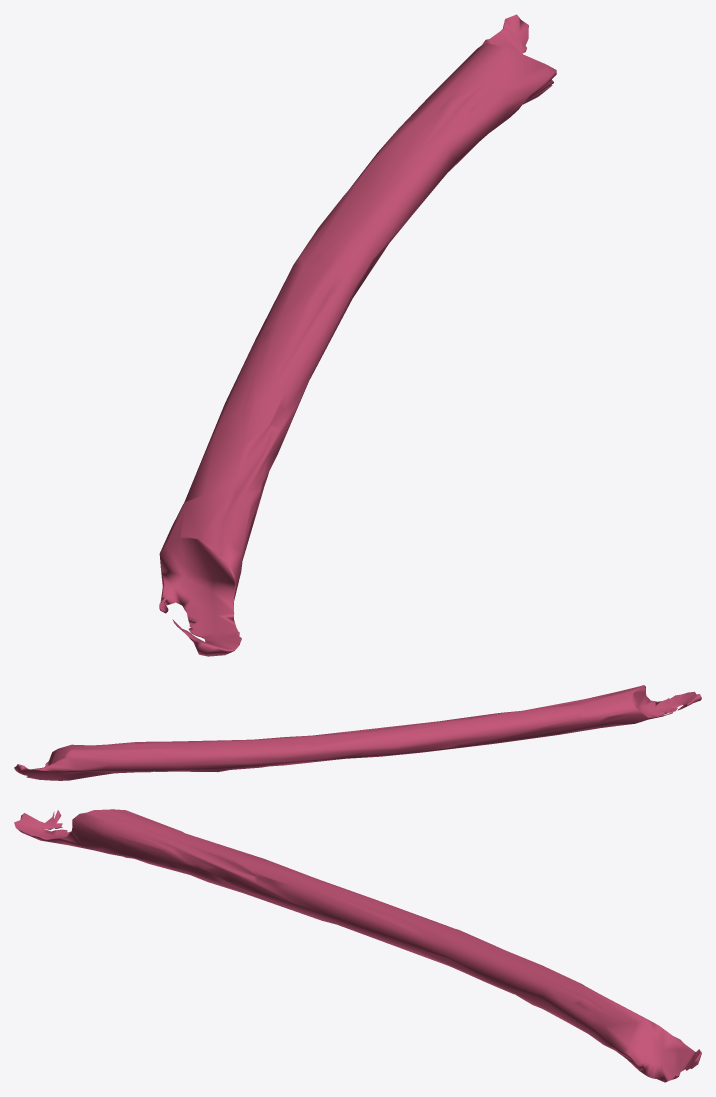
The picture shows the model from 3 angles, top to bottom: view 1: azimuth 30°, elevation 25°; view 2: azimuth 150°, elevation 25°; view 3: azimuth 270°, elevation 25°; orthographic projection. The views are drawn at different scales.
Parts seen in each view (by area): view 1: 右侧腹股沟韧带; view 2: 右侧腹股沟韧带; view 3: 右侧腹股沟韧带.
Part boxes in pixels (bbox=[...]): 右侧腹股沟韧带: bbox=[159, 14, 556, 656]; 右侧腹股沟韧带: bbox=[14, 685, 701, 780]; 右侧腹股沟韧带: bbox=[14, 809, 701, 1082].
Bounding box in the file's own units: 0.154 × 0.0137 × 0.1668.
